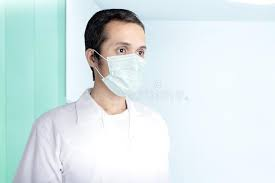flumask: (105, 49, 153, 99)
